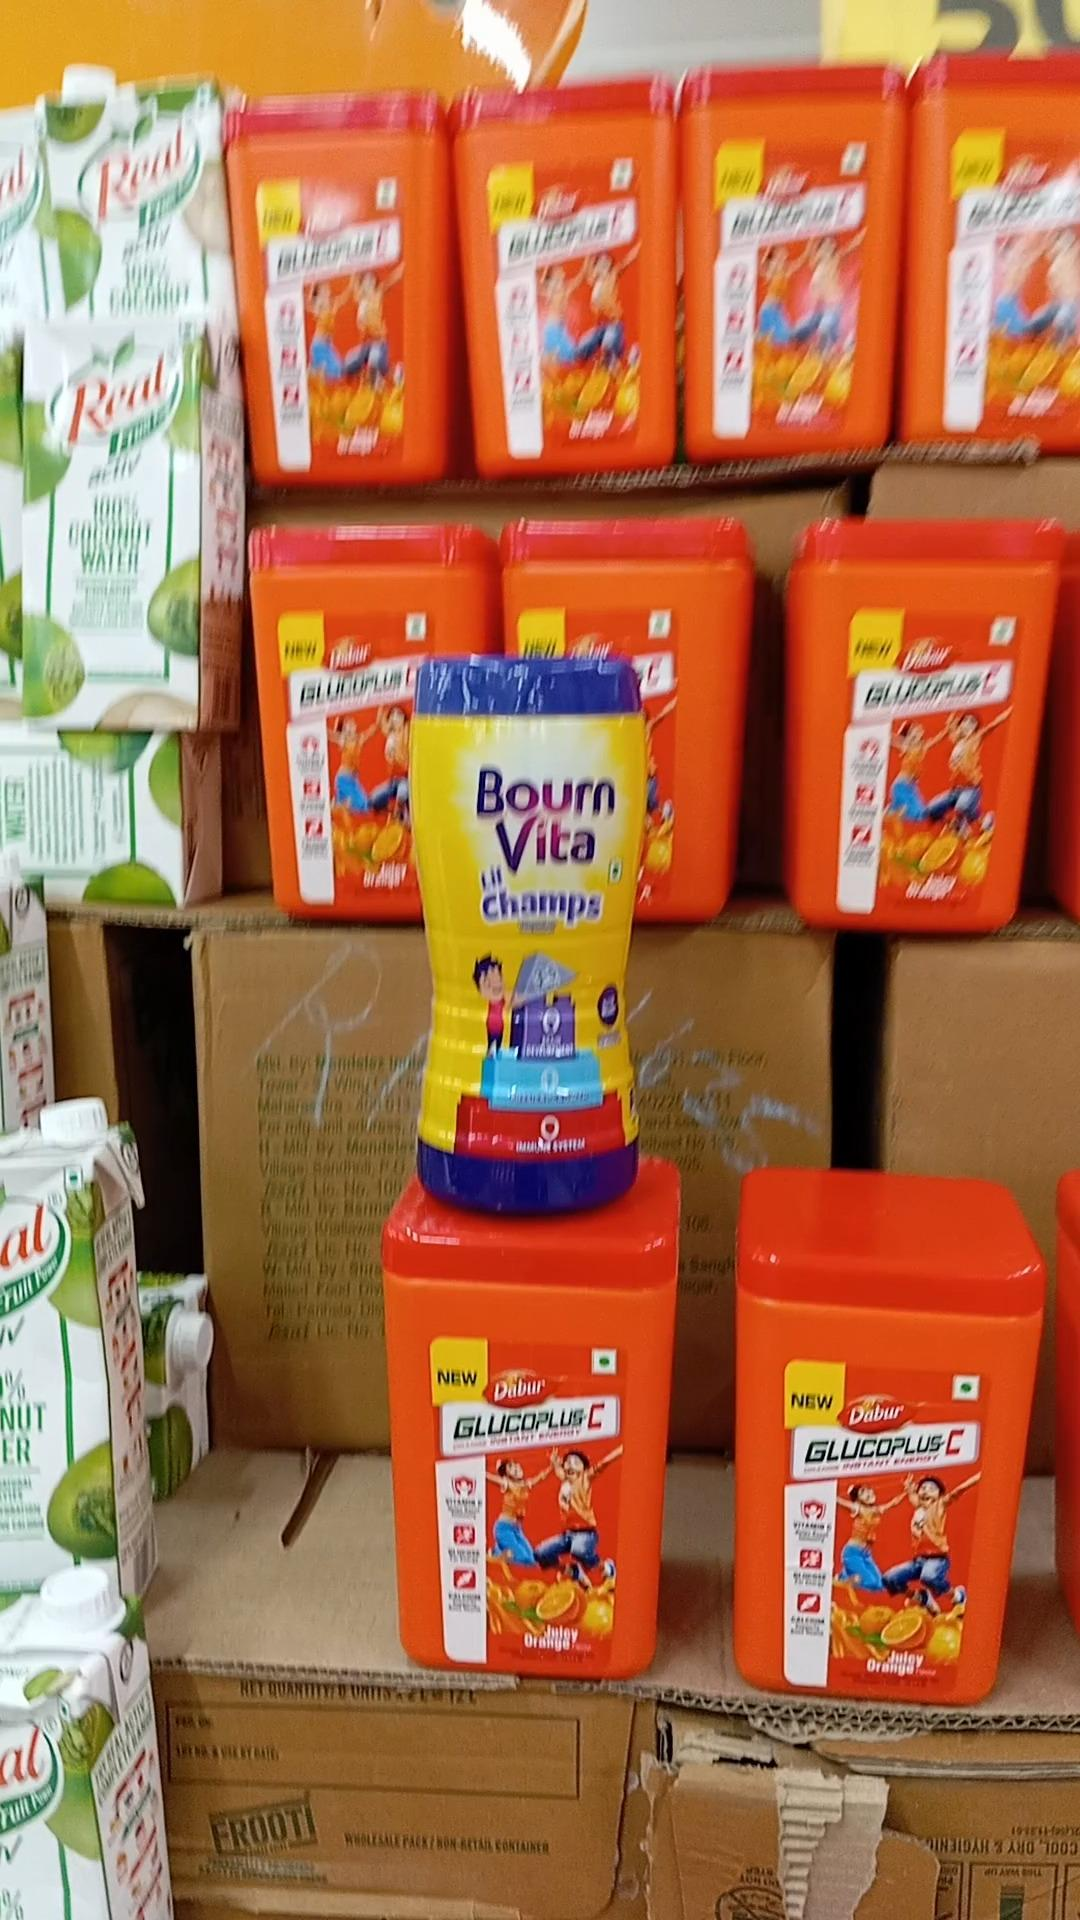BOURN_VITA_CHAMPS_500_G_JAR: (415, 657, 645, 1225)
